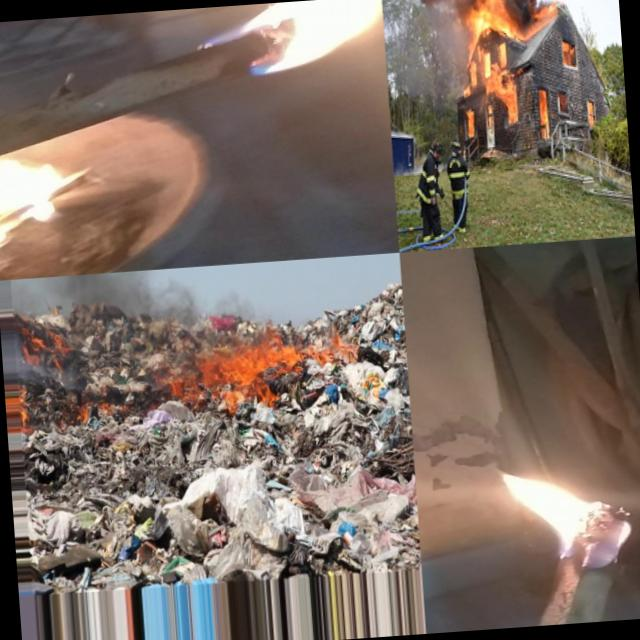fire: (479, 452, 640, 601), (208, 0, 386, 90), (156, 345, 308, 417), (0, 148, 78, 254), (484, 58, 518, 124), (462, 0, 510, 41), (312, 330, 358, 372), (71, 393, 117, 432), (358, 366, 390, 408), (536, 90, 548, 136), (536, 1, 558, 19), (562, 40, 574, 69), (466, 110, 475, 137), (468, 62, 478, 84), (586, 102, 594, 125)
smoke: (11, 262, 273, 362), (439, 28, 468, 92), (419, 0, 464, 31), (503, 0, 542, 23)
